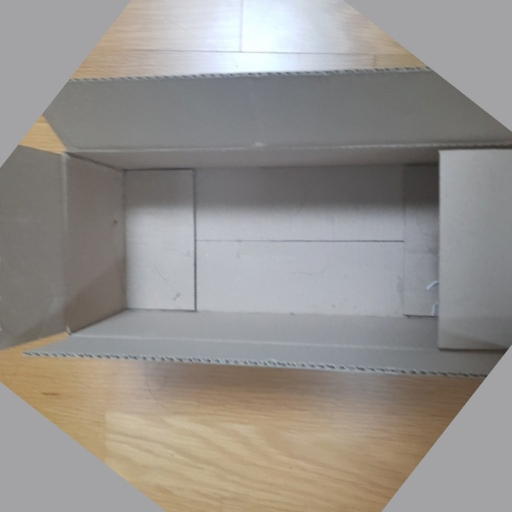Paper_0: (2, 65, 512, 378)
